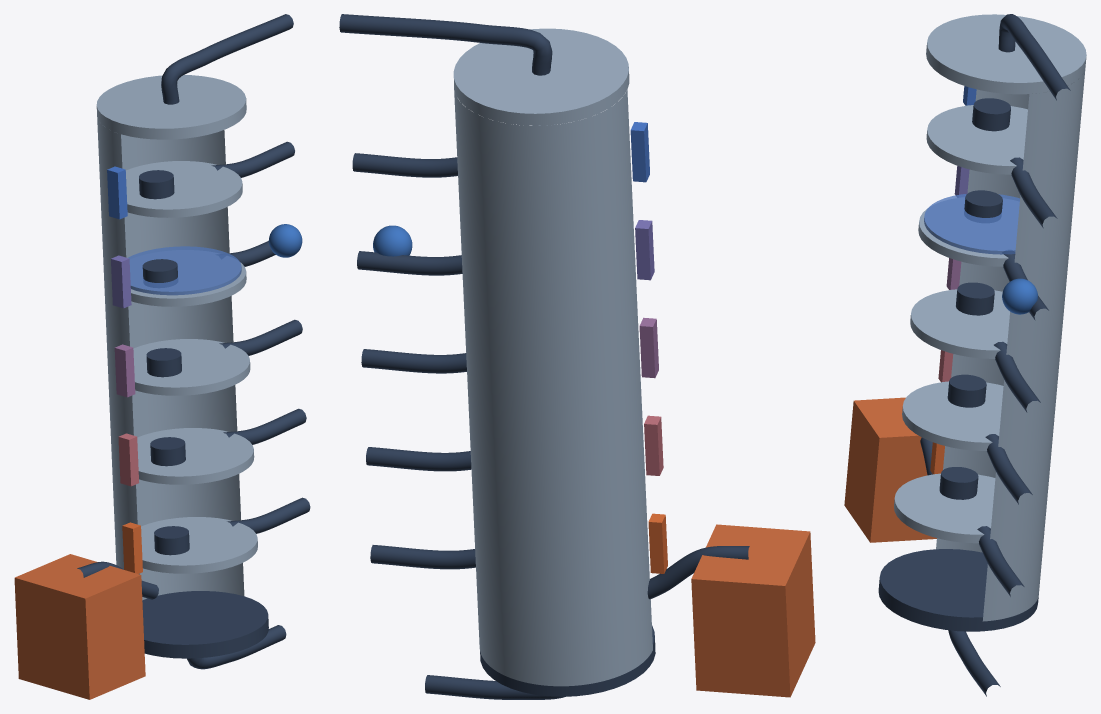
The model's file is crude-oil-desktop.glb.
3 renders of one model, left to right at view 1: azimuth 30°, elevation 25°; view 2: azimuth 150°, elevation 25°; view 3: azimuth 270°, elevation 25°, orthographic. The views are drawn at different scales.
Visible parts, largest first — view 1: Half-shell cutaway, Feed heater schematic, Column cap, Column base, Tray1, Tray3, Tray5, Tray2, Tray4, Selected component condensed liquid schematic, Top gas outlet, Tray3 liquid outlet (+17 smaller); view 2: Half-shell cutaway, Feed heater schematic, Column cap, Top gas outlet, Tray1 liquid outlet, Tray3 liquid outlet, Tray5 liquid outlet, Tray2 liquid outlet, Column base, Tray4 liquid outlet, Residue outlet, Heated feed inlet (+6 smaller); view 3: Half-shell cutaway, Feed heater schematic, Column cap, Column base, Tray1, Tray5, Tray2, Tray4, Tray3, Selected component condensed liquid schematic, Top gas outlet, Residue outlet (+14 smaller).
Boxes of the visible parts, x1,y1,x2,y2 form: Half-shell cutaway: (97, 118, 244, 600); Feed heater schematic: (14, 554, 145, 699); Column cap: (96, 75, 246, 139); Column base: (142, 591, 268, 658); Tray1: (141, 517, 257, 573); Tray3: (133, 339, 250, 395); Tray5: (126, 161, 242, 217); Tray2: (137, 428, 254, 484); Tray4: (130, 250, 246, 306); Selected component condensed liquid schematic: (128, 246, 241, 295); Top gas outlet: (161, 14, 293, 104); Tray3 liquid outlet: (219, 319, 302, 355); Half-shell cutaway: (454, 86, 652, 686); Feed heater schematic: (691, 524, 815, 697); Column cap: (453, 28, 629, 125); Top gas outlet: (339, 14, 552, 75); Tray1 liquid outlet: (370, 545, 475, 569); Tray3 liquid outlet: (361, 349, 466, 373); Tray5 liquid outlet: (352, 153, 457, 177); Tray2 liquid outlet: (366, 447, 471, 471); Column base: (480, 625, 655, 696); Tray4 liquid outlet: (357, 251, 462, 275); Residue outlet: (425, 675, 565, 699); Heated feed inlet: (647, 546, 749, 599); Half-shell cutaway: (936, 67, 1085, 621); Feed heater schematic: (844, 397, 936, 542); Column cap: (926, 14, 1086, 94); Column base: (878, 549, 1038, 631); Tray1: (894, 473, 995, 543); Tray5: (926, 105, 1027, 174); Tray2: (902, 381, 1003, 450); Tray4: (918, 197, 1019, 266); Tray3: (910, 289, 1009, 358); Selected component condensed liquid schematic: (924, 194, 1019, 254); Top gas outlet: (998, 14, 1070, 100); Residue outlet: (948, 630, 1000, 696).
Bounding box in the file's own units: 2.58 × 4.47 × 1.54.
